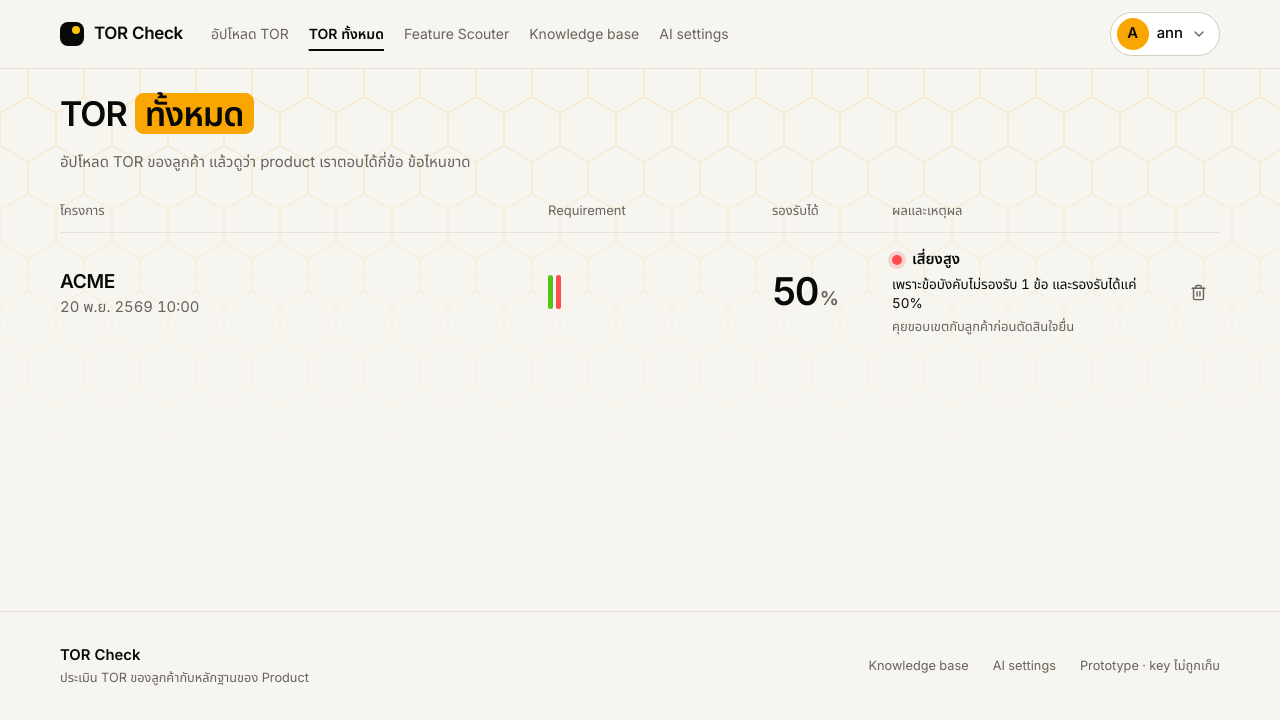
Test case: accounts in the app › lists history, opens an entry into the app, and deletes with one confirmation
Check: the button "ACME" is shown, box left=60, top=267, right=115, bottom=297
Click the button named "ลบ ACME".
click(1198, 292)  # box left=1176, top=270, right=1220, bottom=314
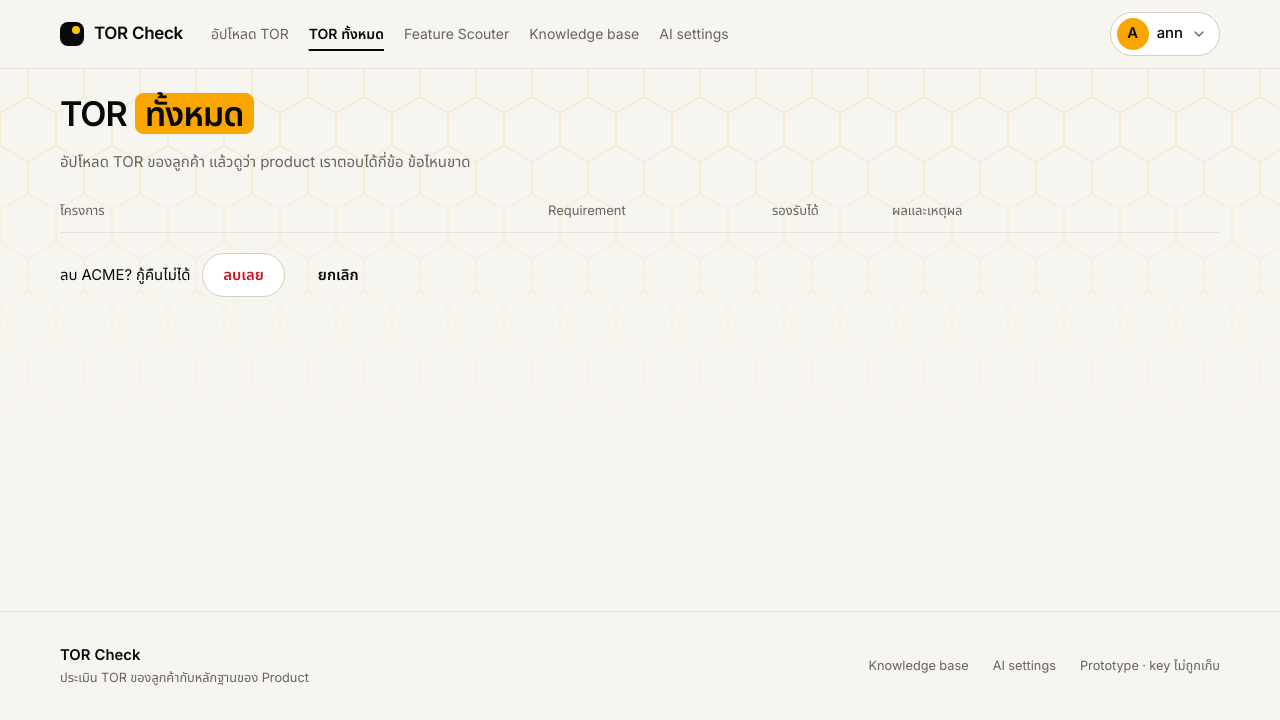
Click the button "ยกเลิก".
click(338, 275)  # box left=297, top=253, right=380, bottom=297
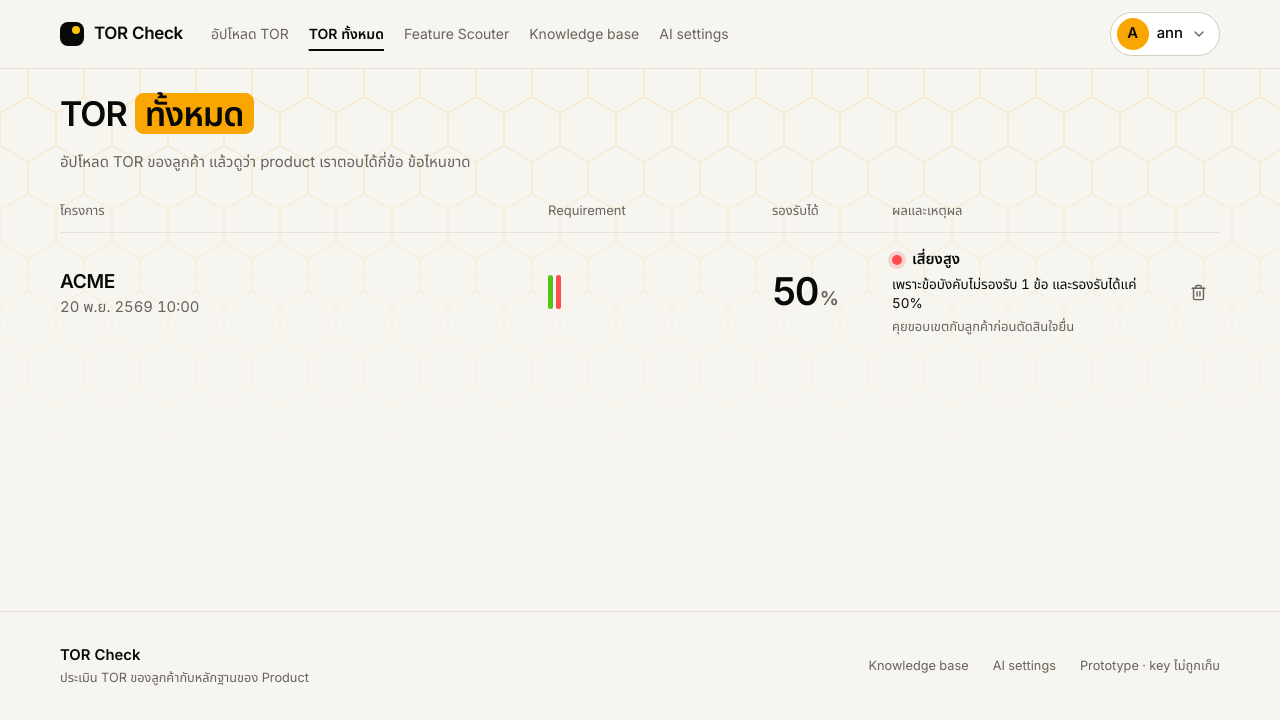
Click the button with aria-label "เปิด ACME".
click(87, 282)  # box left=60, top=267, right=115, bottom=297
(page scrolled)
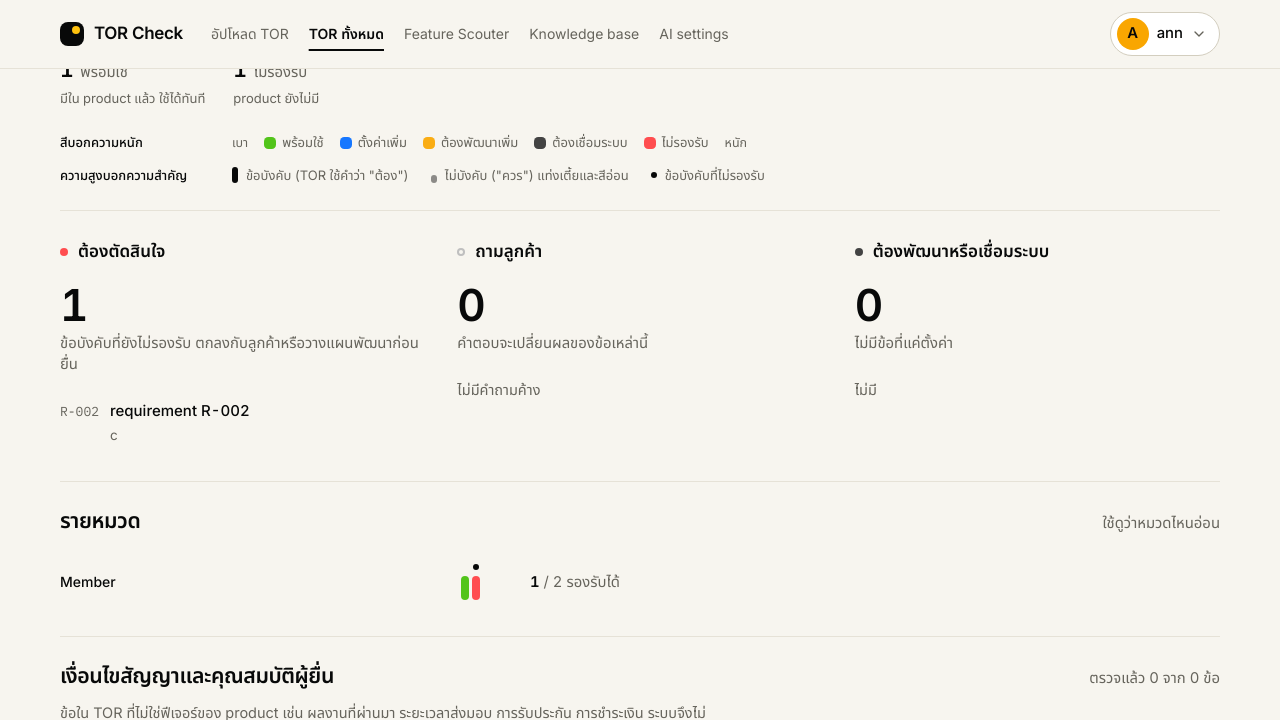
Check: the text "requirement R-002" is shown, box left=110, top=401, right=250, bottom=420
